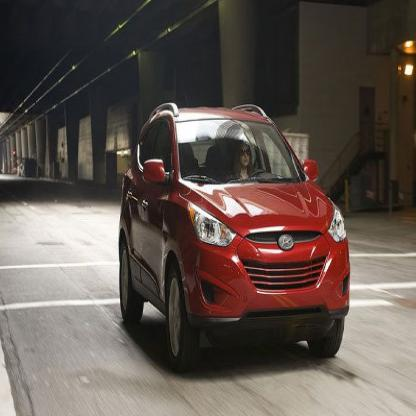Vehicle: (120, 101, 350, 361)
